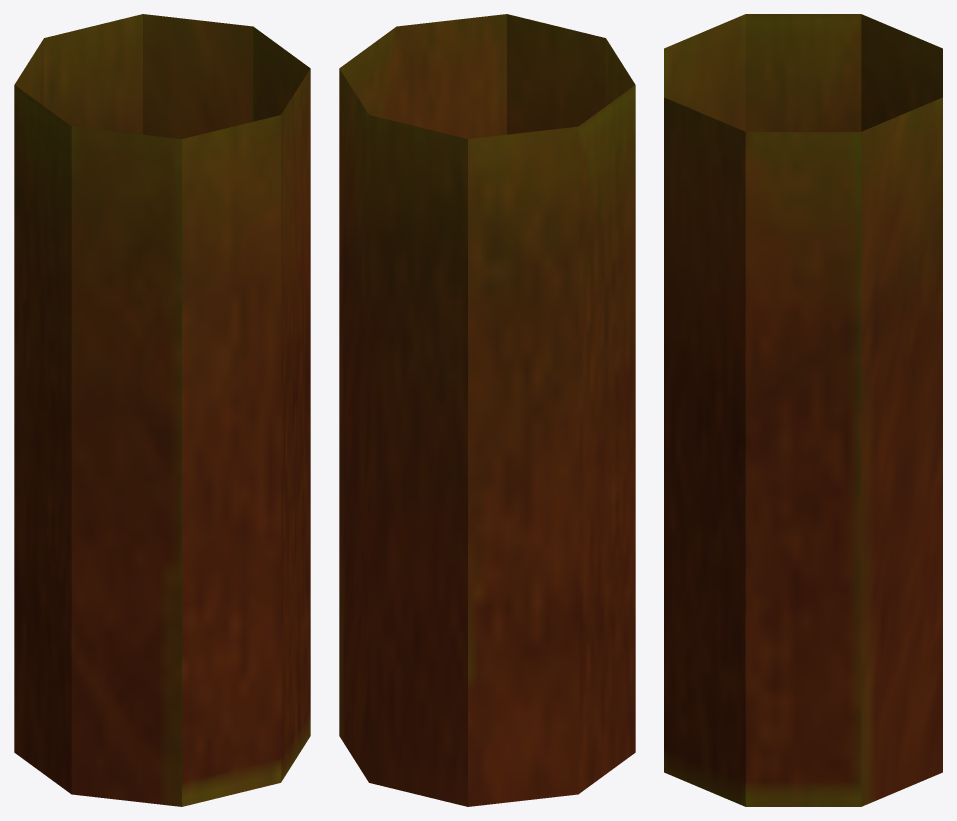
File: treetrunk.obj
3 views of the same model, side by side, from view 1: azimuth 30°, elevation 25°; view 2: azimuth 150°, elevation 25°; view 3: azimuth 270°, elevation 25° (orthographic).
Parts seen in each view (by area): view 1: ground.039_Cube.053; view 2: ground.039_Cube.053; view 3: ground.039_Cube.053.
Part boxes in pixels (x1,y1,x2,y2): ground.039_Cube.053: [14, 14, 310, 806]; ground.039_Cube.053: [339, 14, 635, 806]; ground.039_Cube.053: [664, 14, 942, 806].
Size of the model in its own units: 1.69 by 4.52 by 1.69.
